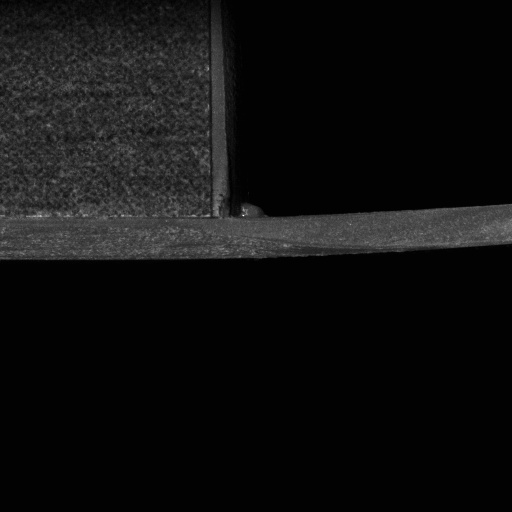changdai: (222, 203, 511, 259)
